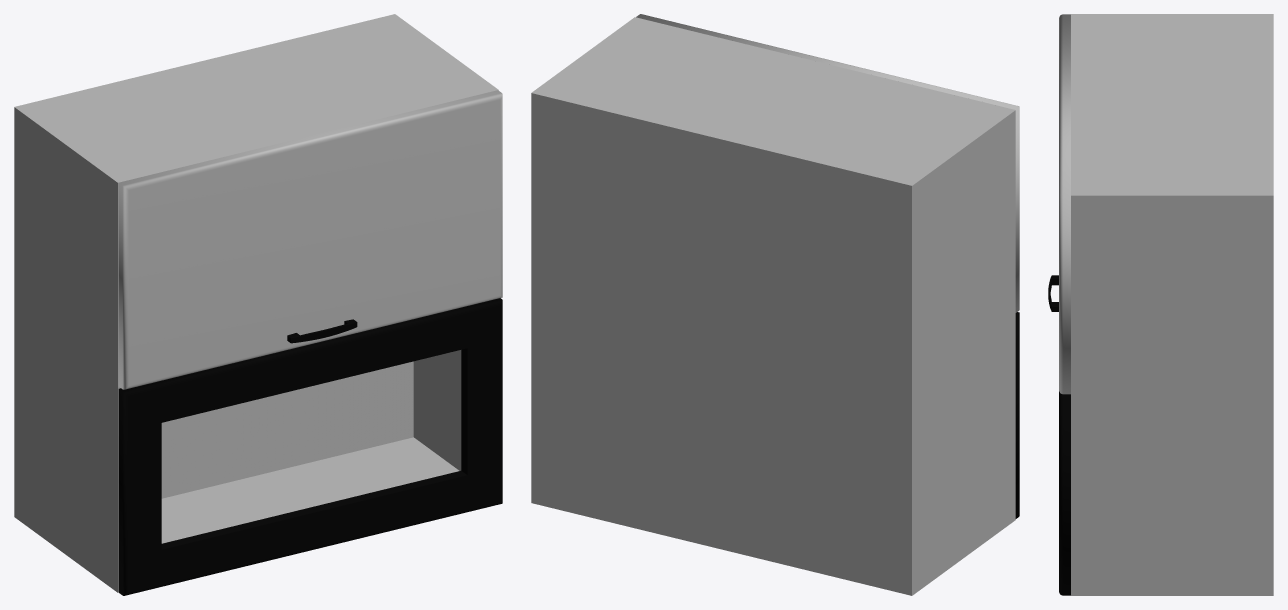
File: malm70.glb
3 renders of one model, left to right at view 1: azimuth 30°, elevation 25°; view 2: azimuth 150°, elevation 25°; view 3: azimuth 270°, elevation 25°, orthographic. The views are drawn at different scales.
Visible parts, largest first — view 1: Box036, Box031, Box032, Obj3d66-503491-2-357; view 2: Box036, Box031, Box032; view 3: Box036, Box031, Box032.
Boxes of the visible parts, box(x1,y1,x2,y2) form: Box036: box(14, 14, 498, 592); Box031: box(118, 90, 502, 389); Box032: box(118, 298, 502, 595); Obj3d66-503491-2-357: box(287, 319, 357, 343); Box036: box(531, 17, 1015, 595); Box031: box(636, 14, 1019, 312); Box032: box(1015, 312, 1019, 518); Box036: box(1071, 14, 1273, 595); Box031: box(1059, 14, 1070, 394); Box032: box(1059, 391, 1070, 595).
Size of the model in its own units: 0.7 by 0.72 by 0.3671.
Materials: 3 (1 with a texture image).
